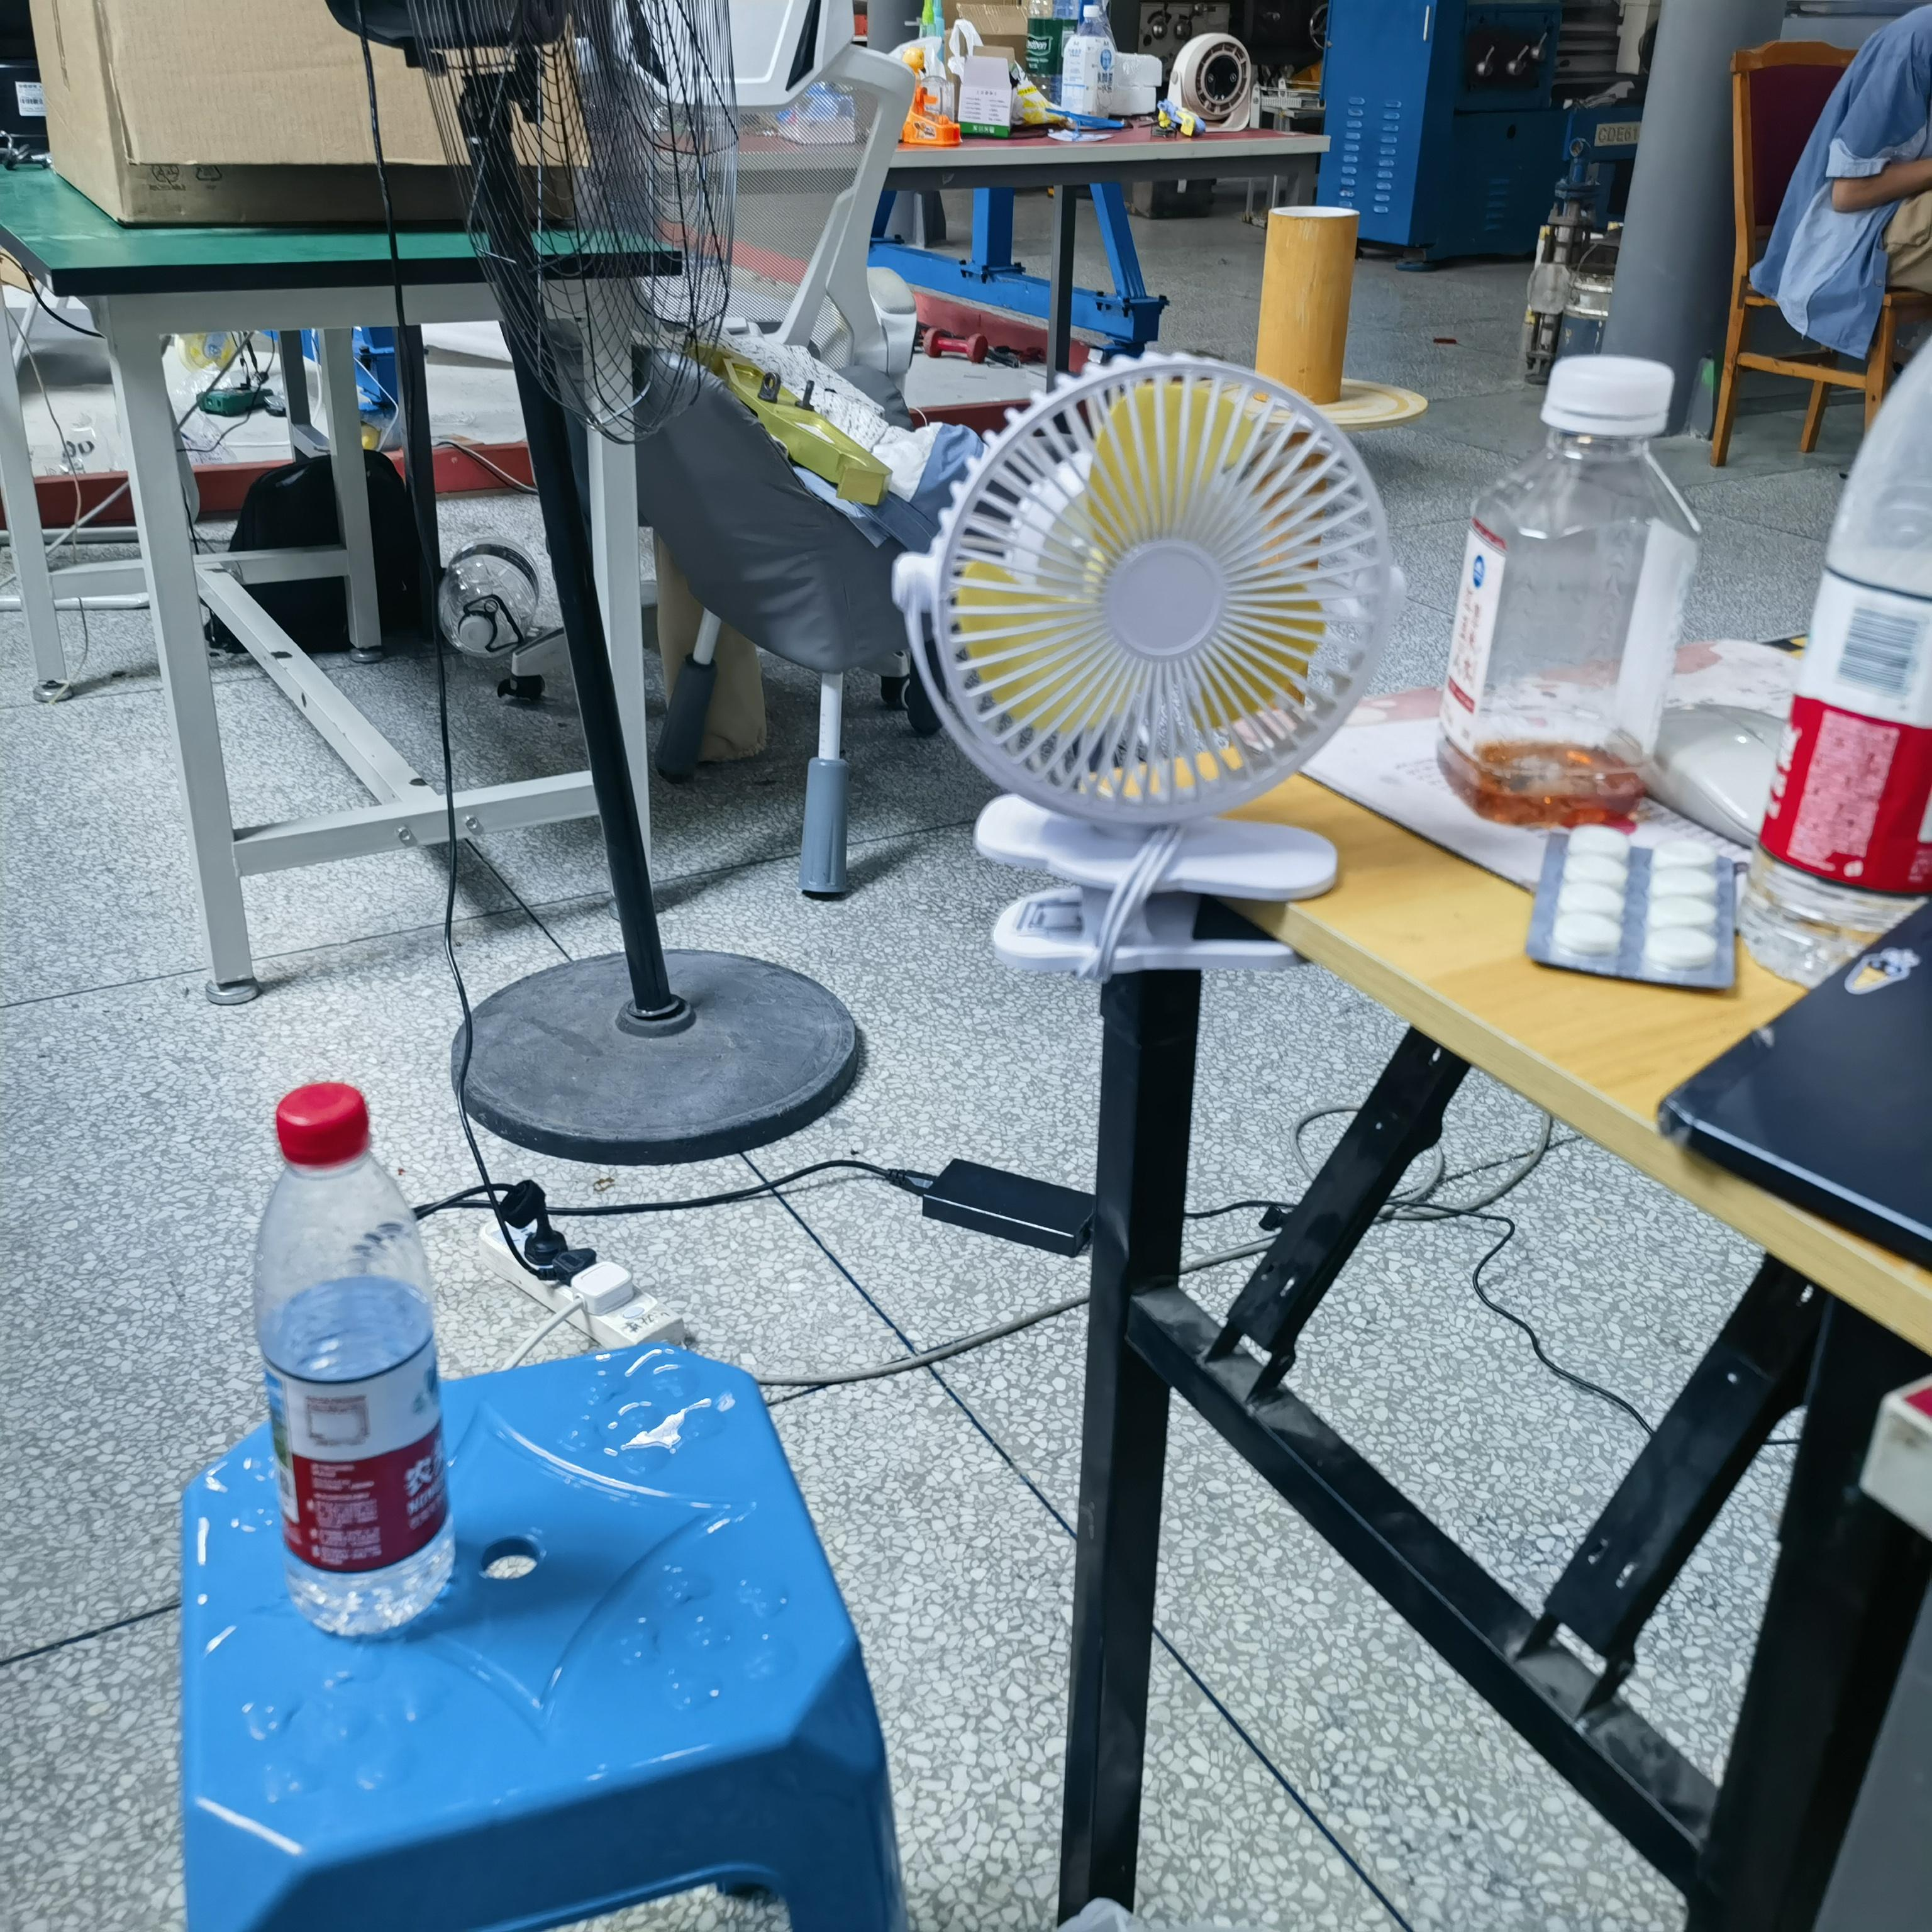bottle: (251, 1079, 479, 1644)
fan: (886, 341, 1419, 985)
